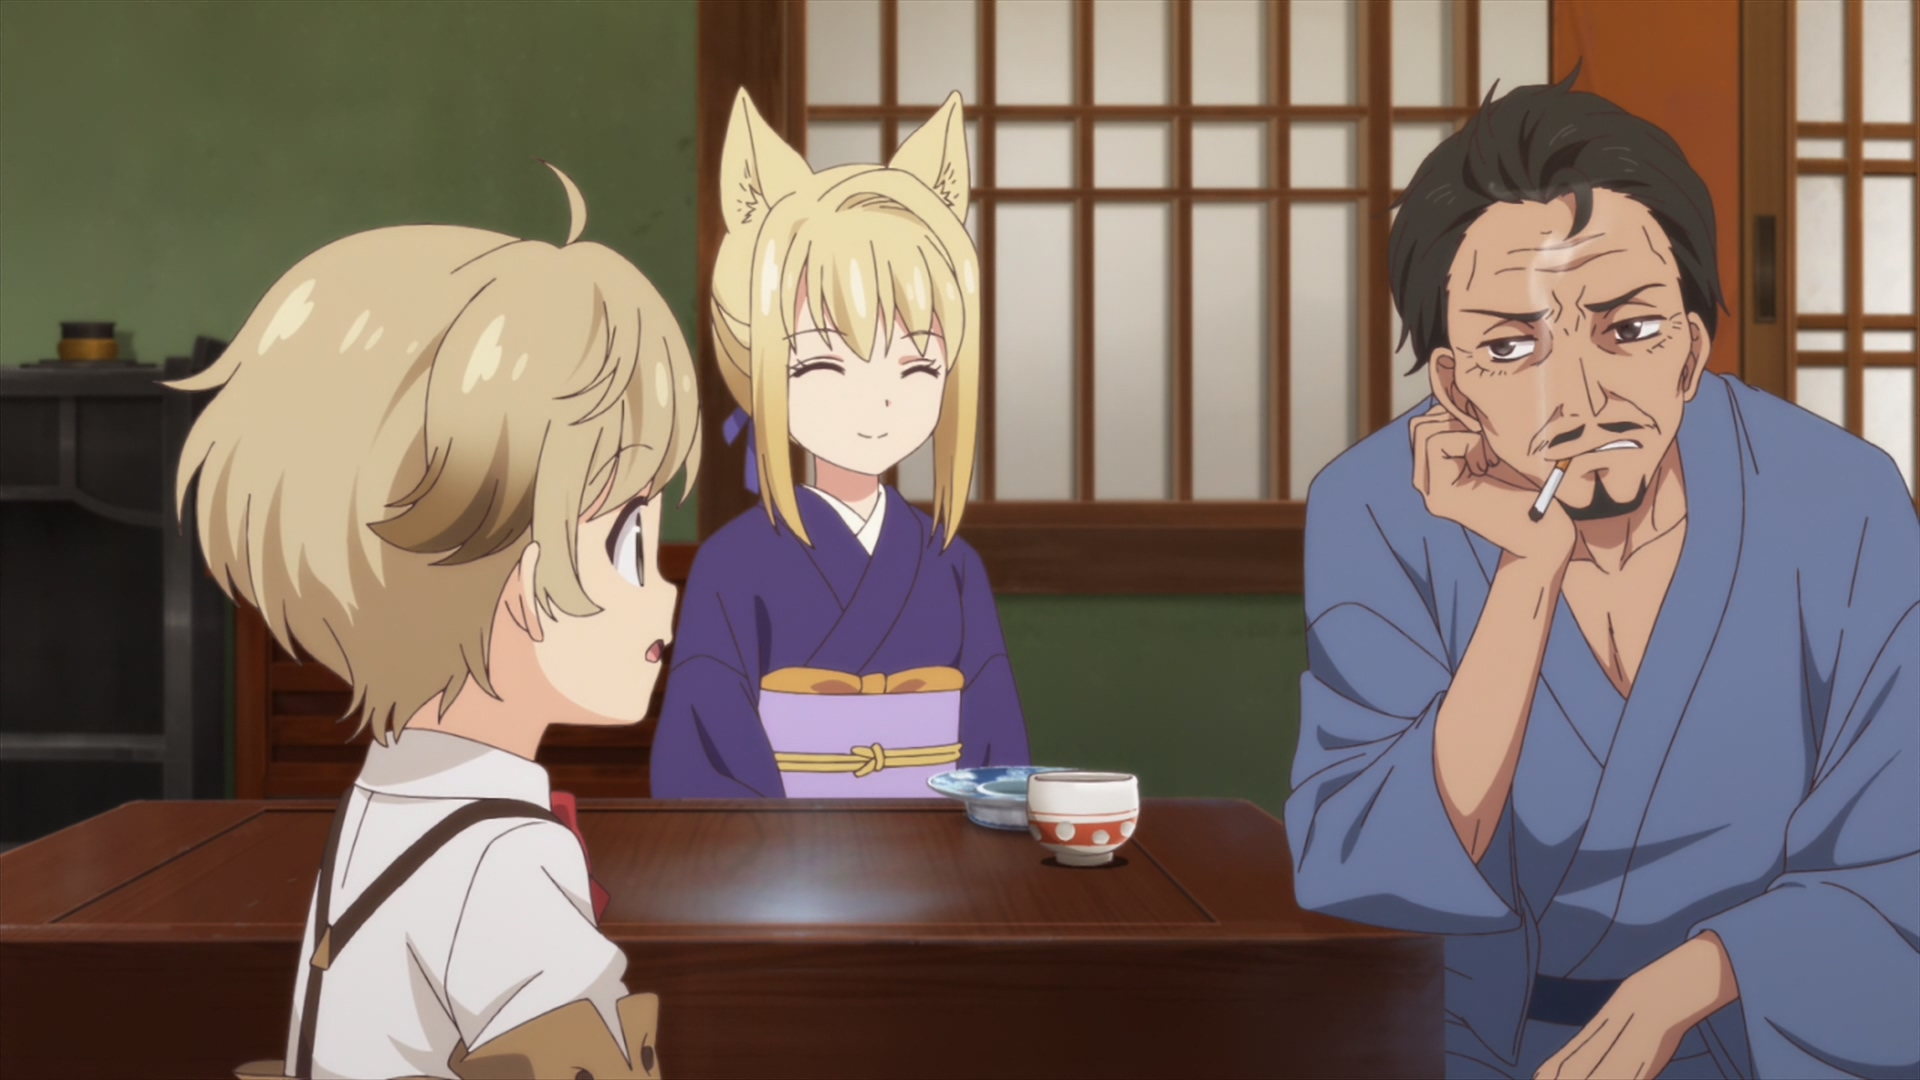其他: (1282, 54, 1920, 1080), (153, 160, 704, 1080)
桐: (650, 86, 1033, 800)
